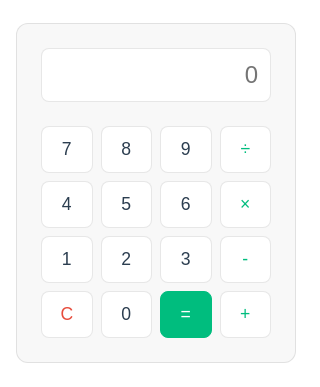
Test: CalculatorView › shows the backend error message when the request fails
This screenshot has width=320, height=387.
Step 1. Type "1/0" into the field with class "display" → (156, 75), box left=41, top=48, right=271, bottom=102
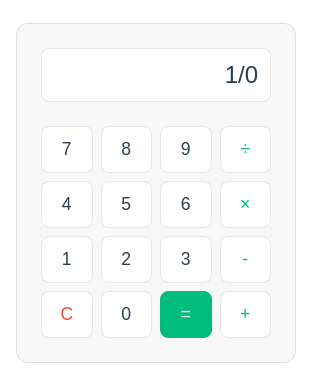
Step 2. Click the button "=" → click(186, 314), box left=160, top=291, right=212, bottom=338
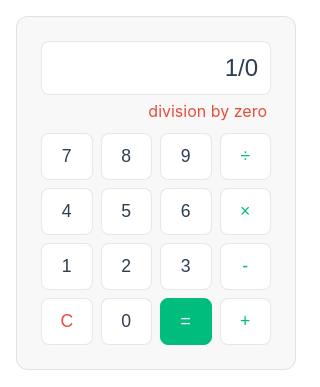
expect the text with class "error" reads "division by zero": met, box left=148, top=101, right=267, bottom=121
